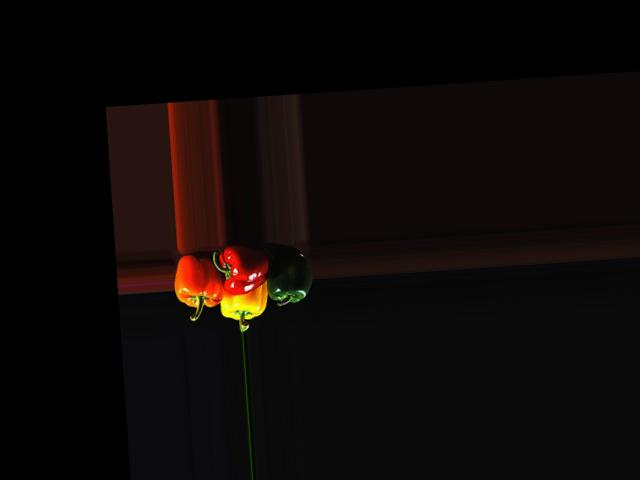bell_pepper: (171, 244, 226, 316)
